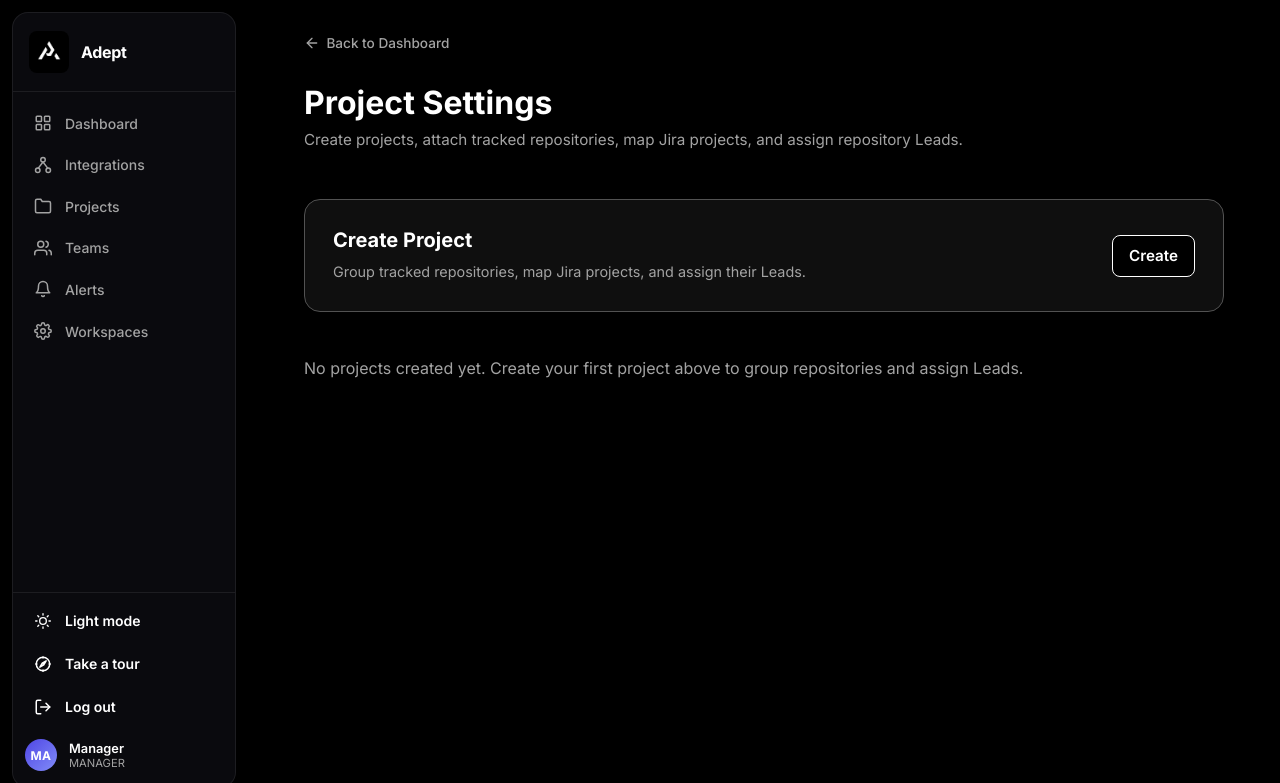
ProjectsPage with Lead Assignments › keeps the project creation form collapsed until requested
Expected: the field labelled "Project name" is not shown
Click the button with aria-label "Create project".
click(1154, 256)  # box [1112,234,1195,277]
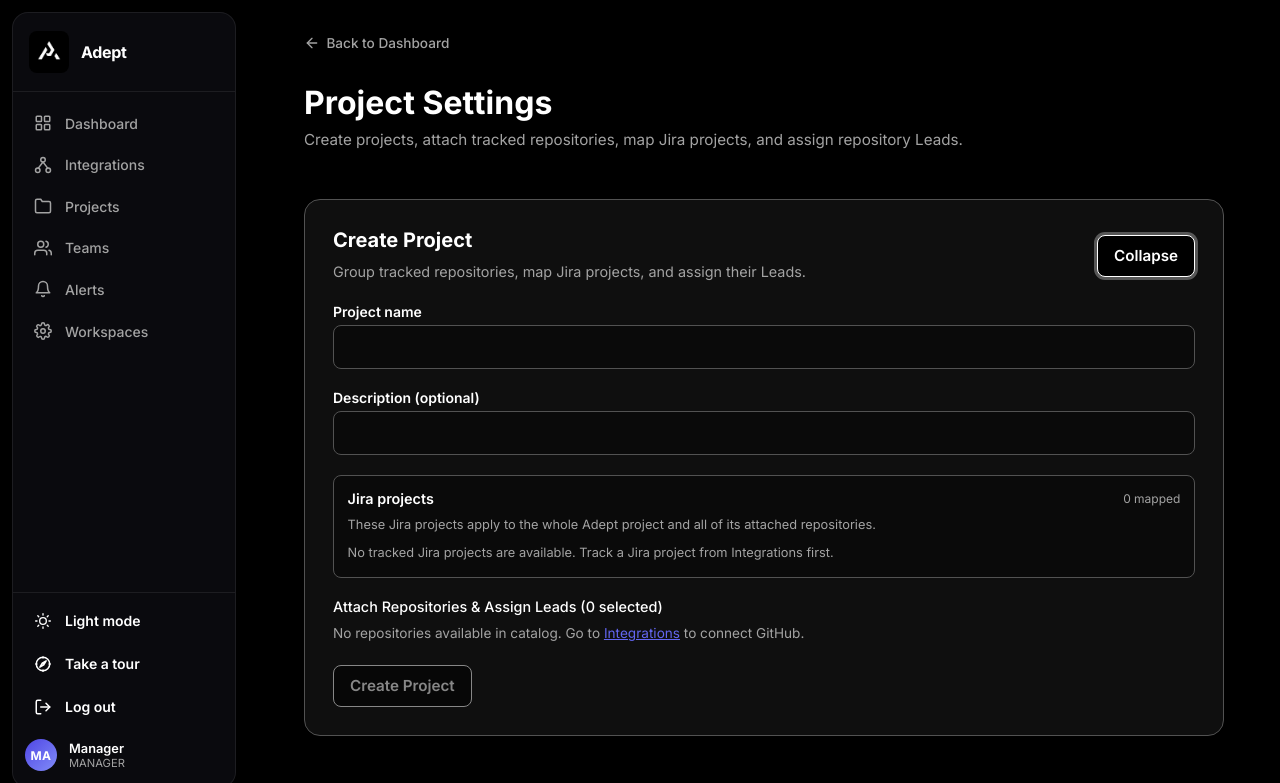
Now the field labelled "Project name" is shown, box [333,325,1195,369]
Now the button with aria-label "Collapse project" is expanded
Click the button with aria-label "Collapse project".
click(1146, 256)  # box [1097,234,1195,277]
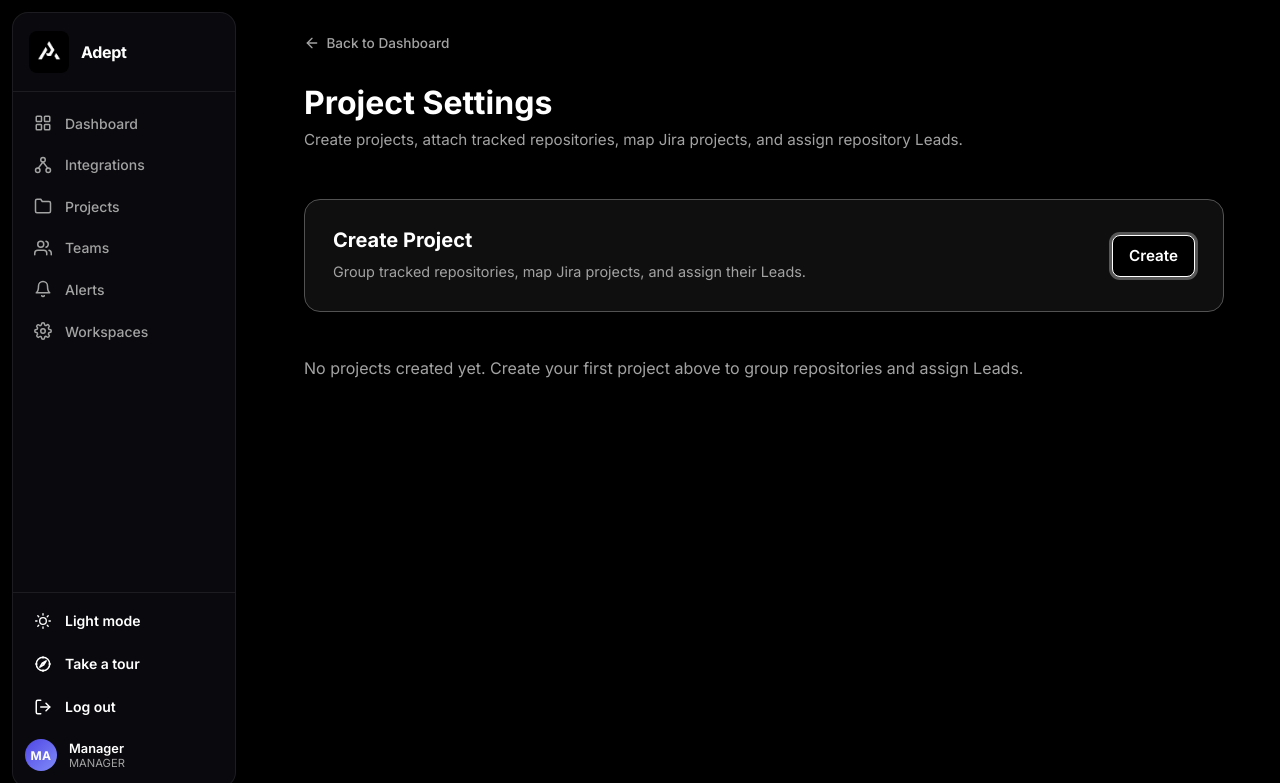
Now the label "Project name" is gone
